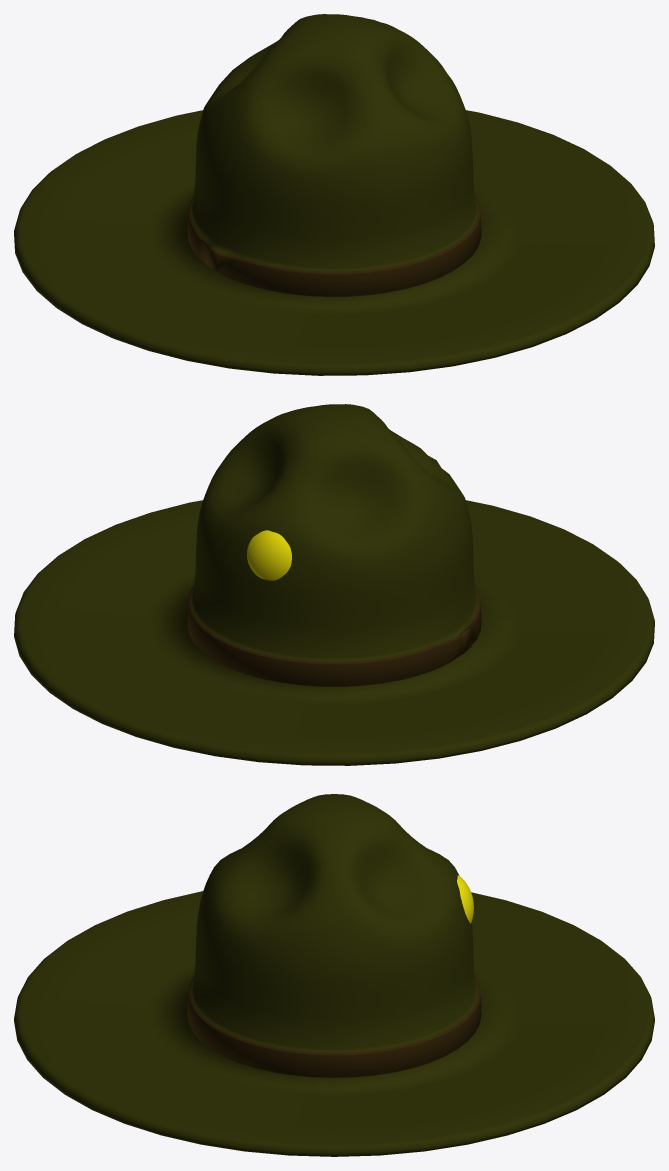
The model's file is DrillHat.fbx.
3 renders of one model, top to bottom at view 1: azimuth 30°, elevation 25°; view 2: azimuth 150°, elevation 25°; view 3: azimuth 270°, elevation 25°, orthographic.
Parts seen in each view (by area): view 1: Sphere; view 2: Sphere, Cube.002; view 3: Sphere.
Boxes of the visible parts, x1,y1,x2,y2 form: Sphere: [14, 14, 654, 375]; Sphere: [14, 404, 654, 765]; Cube.002: [247, 530, 291, 580]; Sphere: [14, 794, 654, 1156].
Size of the model in its own units: 1184 by 450 by 1184.
